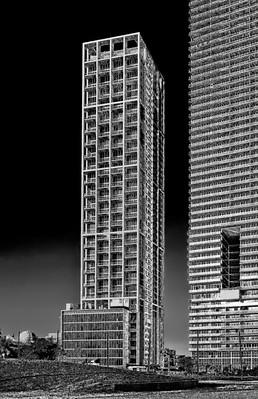building: (76, 30, 167, 371)
